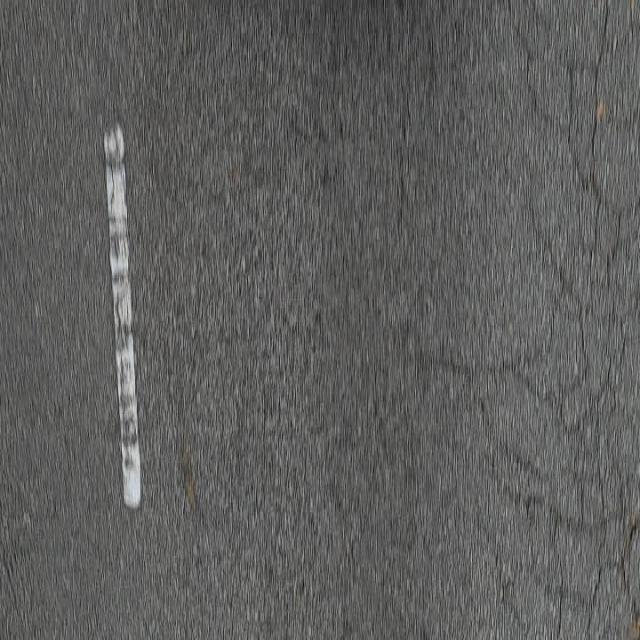cracks: (461, 0, 640, 640)
